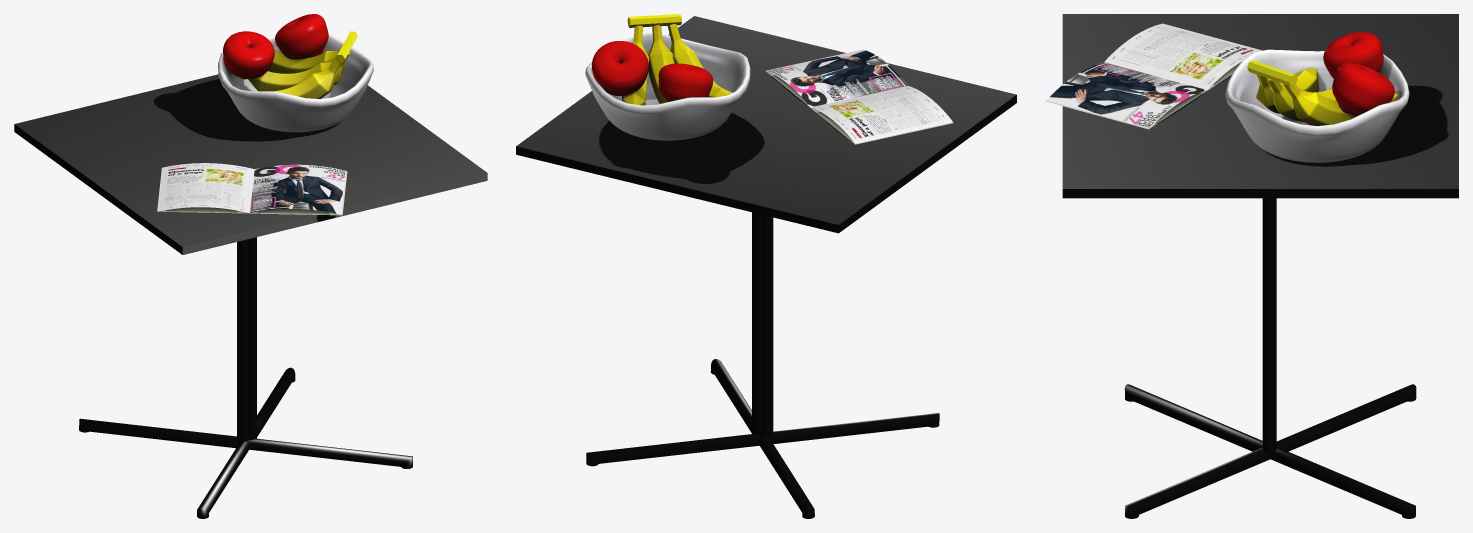
The picture shows the model from 3 angles, left to right: view 1: azimuth 30°, elevation 25°; view 2: azimuth 150°, elevation 25°; view 3: azimuth 270°, elevation 25°; orthographic projection. The views are drawn at different scales.
Parts seen in each view (by area): view 1: Object002_Object002_mtl_0, Object001_Object001_mtl_0; view 2: Object002_Object002_mtl_0, Object001_Object001_mtl_0; view 3: Object002_Object002_mtl_0, Object001_Object001_mtl_0.
Boxes of the visible parts, x1,y1,x2,y2 form: Object002_Object002_mtl_0: [14, 34, 487, 518]; Object001_Object001_mtl_0: [157, 14, 357, 215]; Object002_Object002_mtl_0: [516, 16, 1016, 518]; Object001_Object001_mtl_0: [591, 14, 953, 144]; Object002_Object002_mtl_0: [1062, 14, 1458, 518]; Object001_Object001_mtl_0: [1045, 23, 1398, 129].
Bounding box in the file's own units: 59.48 × 71.22 × 59.43.
2 materials, 2 textured.
